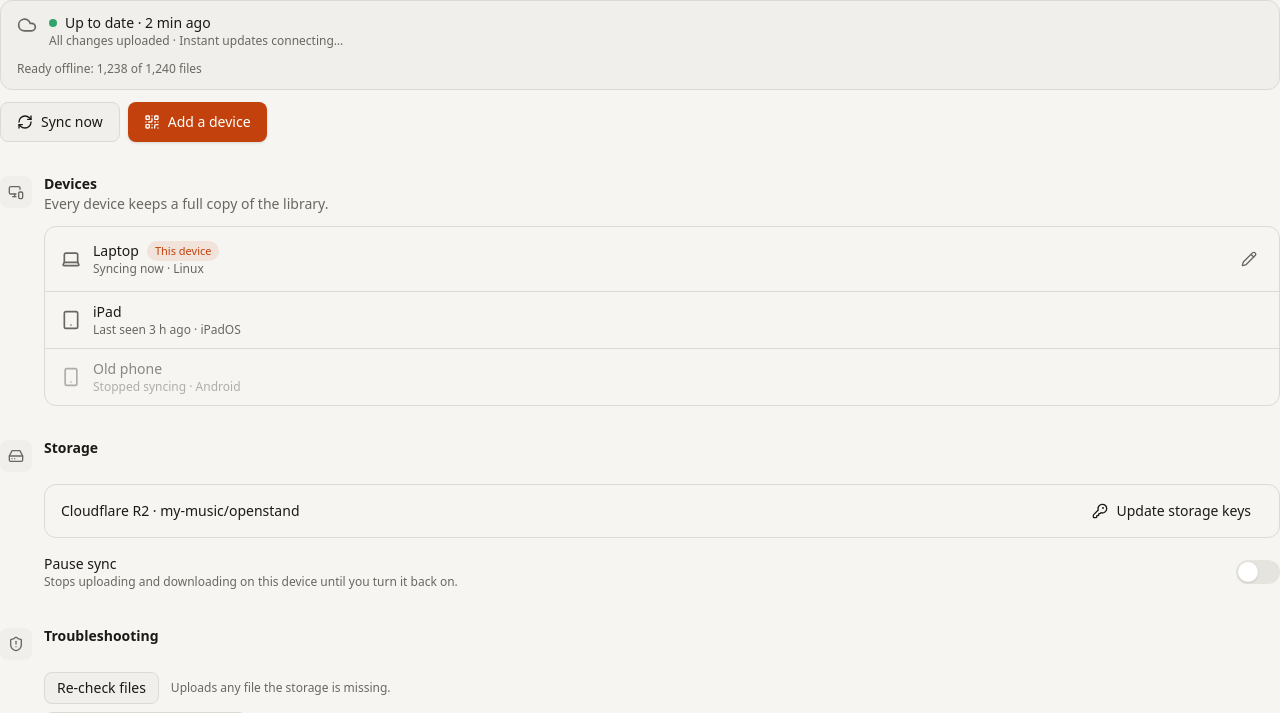
LibrarySyncSettings › renames this device from the devices list
This screenshot has width=1280, height=713.
Click the button named "Rename this device": (1249, 259) [1227,237,1271,281]
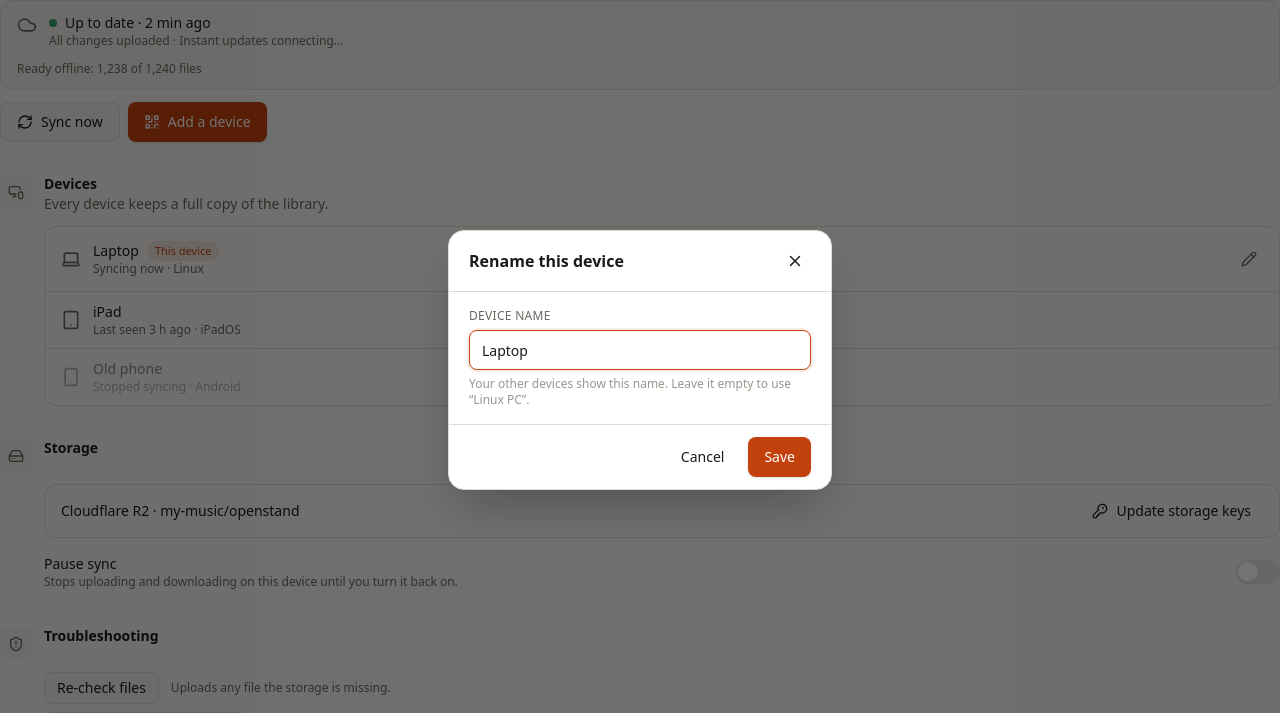
Result: the field labelled "Device name" holds "Laptop"
Replace the text in the field labelled "Device name" with "  Studio laptop ": (640, 350) [469,330,811,370]
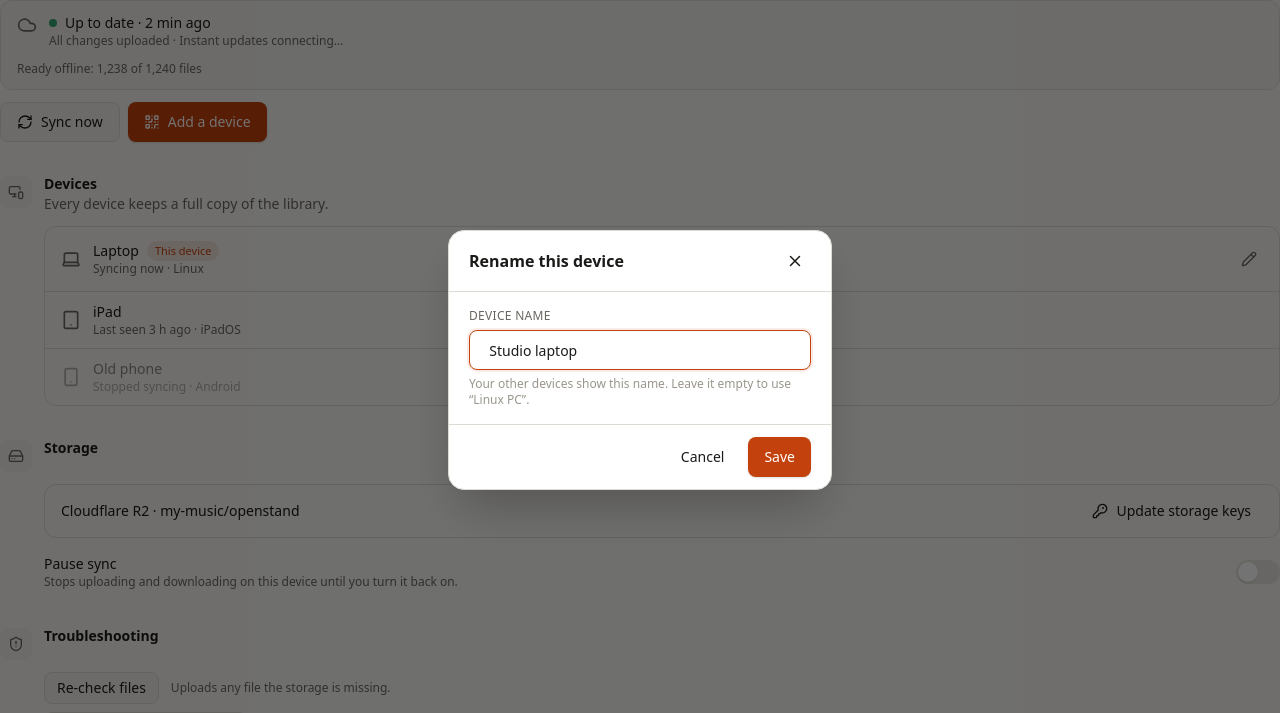
Click the button "Save": (780, 457) [748,437,811,477]
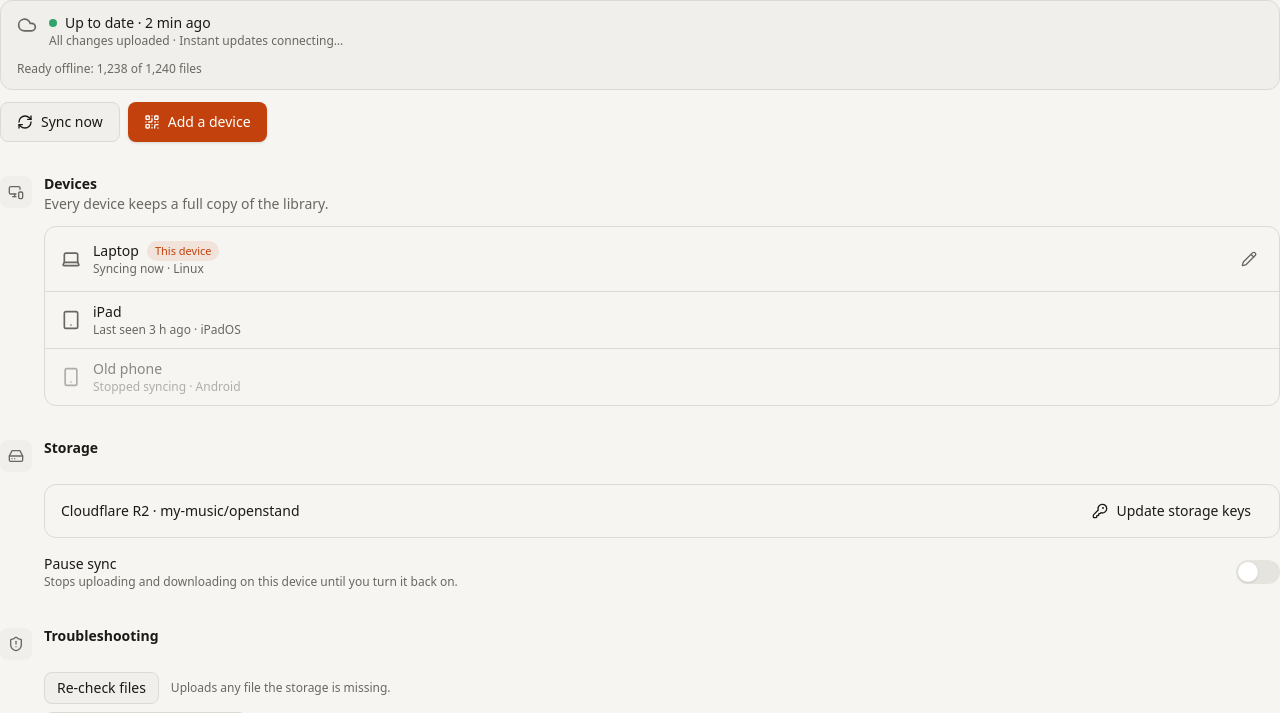
Result: the heading "Rename this device" is gone
